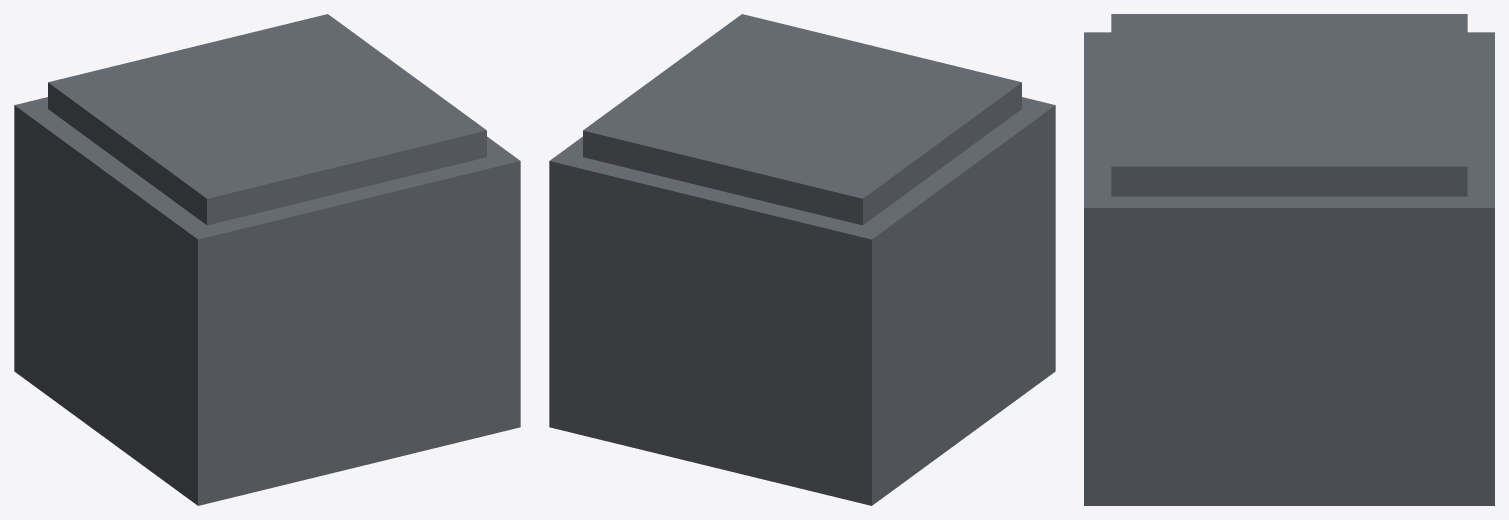
Rendered from kaze_gt.glb.
3 renders of one model, left to right at view 1: azimuth 30°, elevation 25°; view 2: azimuth 150°, elevation 25°; view 3: azimuth 270°, elevation 25°, orthographic. The views are drawn at different scales.
Visible parts, largest first — view 1: brute_500_engine; view 2: brute_500_engine; view 3: brute_500_engine.
Part boxes in pixels (bbox=[...]): brute_500_engine: bbox=[14, 14, 520, 505]; brute_500_engine: bbox=[549, 14, 1055, 505]; brute_500_engine: bbox=[1084, 14, 1494, 505].
Bounding box in the file's own units: 0.76 × 0.66 × 0.75.
Materials: 1 (1 with a texture image).
